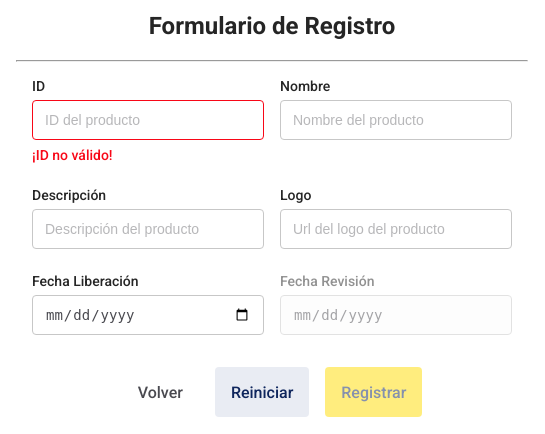
Create Product component › Reset button › Reset button should reset form errors
Click the button "Reiniciar" at [262, 392], box [215,368,309,418]
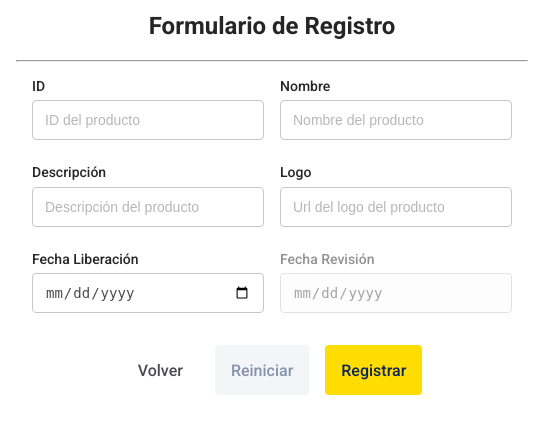
Result: the text "¡ID no válido!" is gone
